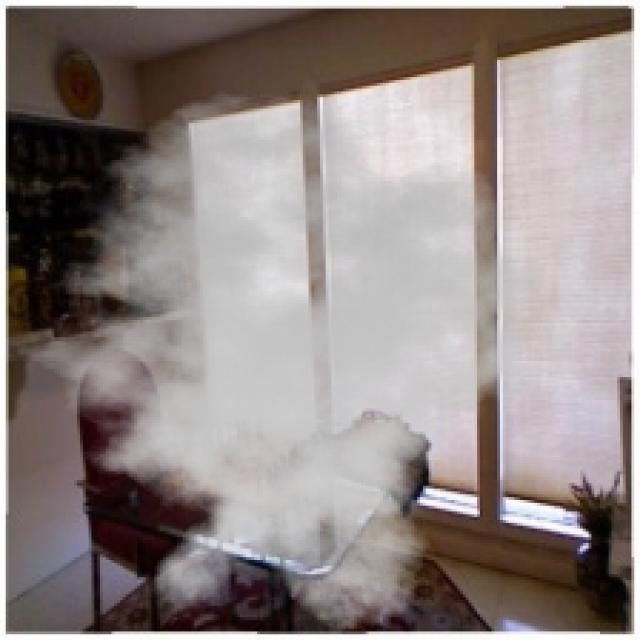smoke: (3, 91, 563, 634)
